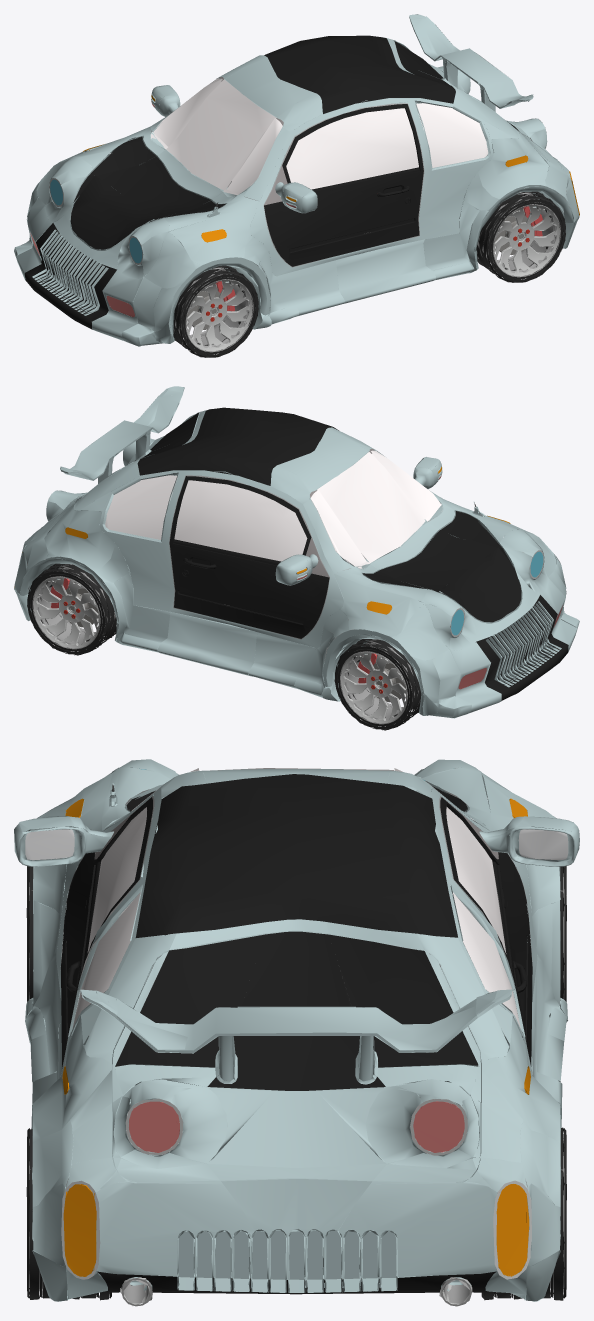
3 renders of one model, top to bottom at view 1: azimuth 30°, elevation 25°; view 2: azimuth 150°, elevation 25°; view 3: azimuth 270°, elevation 25°, orthographic. The views are drawn at different scales.
Parts seen in each view (by area): view 1: Mesh_10.001_LOD_6, door left:1.001_LOD_6, whell v7:2.001_LOD_6, whell v7:1.001_LOD_6, door left(Symétrie miroir):1.001_LOD_6; view 2: Mesh_10.001_LOD_6, door left:1.001_LOD_6, door left(Symétrie miroir):1.001_LOD_6, whell v6(Symétrie miroir):2.001_LOD_6, whell v6(Symétrie miroir):1.001_LOD_6; view 3: Mesh_10.001_LOD_6, door left:1.001_LOD_6, door left(Symétrie miroir):1.001_LOD_6, whell v6(Symétrie miroir):2.001_LOD_6, whell v7:2.001_LOD_6, whell v6(Symétrie miroir):1.001_LOD_6, whell v7:1.001_LOD_6.
Part boxes in pixels (bbox=[...]): Mesh_10.001_LOD_6: bbox=[14, 14, 579, 346]; door left:1.001_LOD_6: bbox=[263, 103, 424, 267]; whell v7:2.001_LOD_6: bbox=[476, 191, 565, 282]; whell v7:1.001_LOD_6: bbox=[173, 265, 258, 357]; door left(Symétrie miroir):1.001_LOD_6: bbox=[151, 85, 180, 116]; Mesh_10.001_LOD_6: bbox=[14, 386, 579, 718]; door left:1.001_LOD_6: bbox=[169, 457, 442, 638]; door left(Symétrie miroir):1.001_LOD_6: bbox=[169, 475, 329, 639]; whell v6(Symétrie miroir):2.001_LOD_6: bbox=[27, 563, 116, 655]; whell v6(Symétrie miroir):1.001_LOD_6: bbox=[334, 639, 421, 730]; Mesh_10.001_LOD_6: bbox=[25, 759, 567, 1306]; door left:1.001_LOD_6: bbox=[14, 796, 532, 1068]; door left(Symétrie miroir):1.001_LOD_6: bbox=[439, 796, 579, 1013]; whell v6(Symétrie miroir):2.001_LOD_6: bbox=[481, 1127, 566, 1300]; whell v7:2.001_LOD_6: bbox=[26, 1128, 111, 1300]; whell v6(Symétrie miroir):1.001_LOD_6: bbox=[560, 866, 566, 1002]; whell v7:1.001_LOD_6: bbox=[26, 866, 33, 1001].
Bounding box in the file's own units: 0.1647 × 0.0657 × 0.0922.
